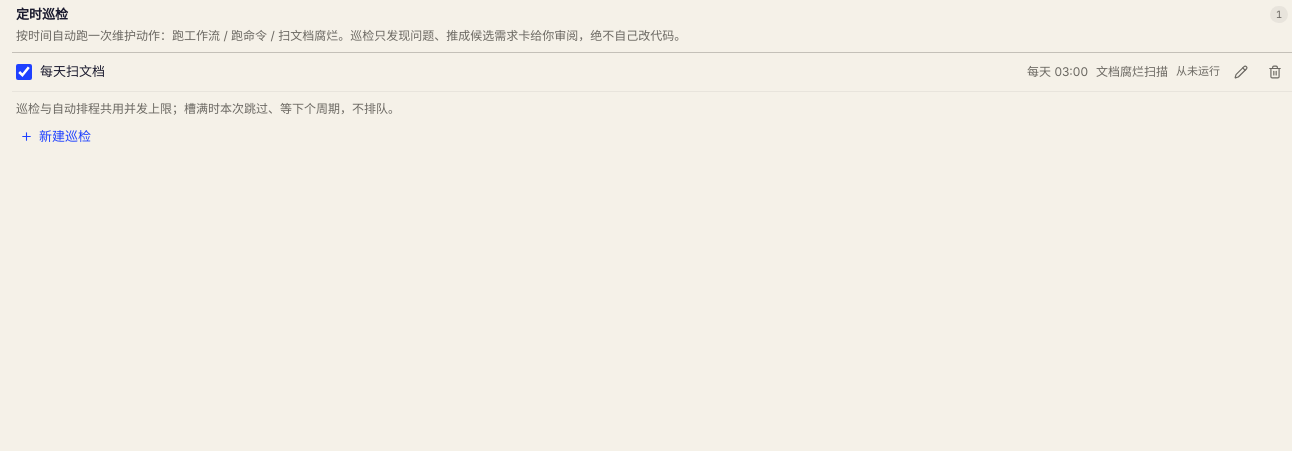
Test: PatrolSettings · 触发编辑（下拉 + 时刻选择器，绝不出现表达式输入框） › 动作三选一：工作流给工作流下拉、命令给命令输入、文档扫描无额外字段
Click the button named "编辑巡检 每天扫文档": (1241, 72) [1228, 58, 1254, 84]
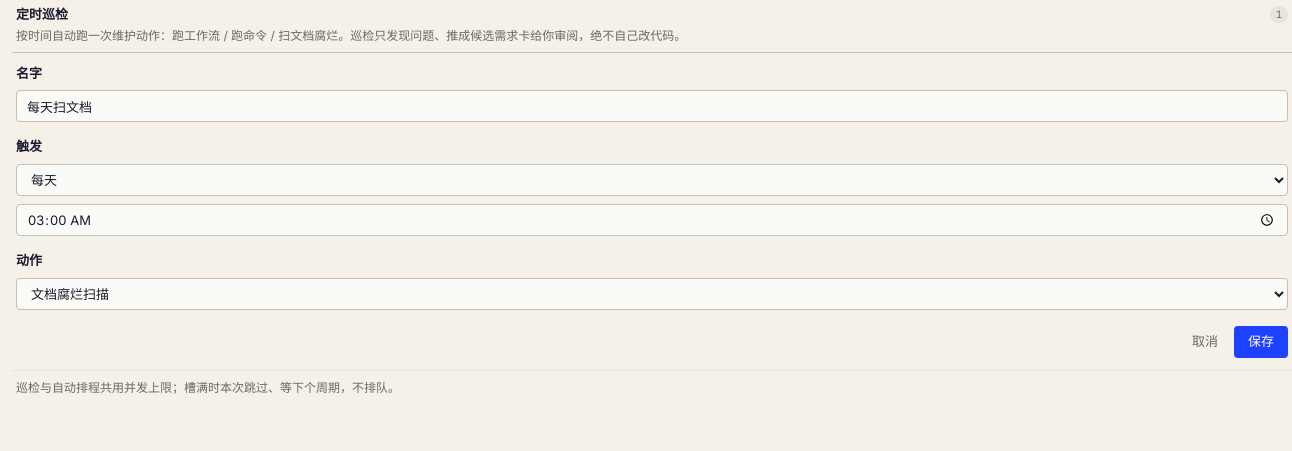
Select "跑工作流" in the dropdown labelled "动作": (652, 294) [16, 278, 1288, 310]
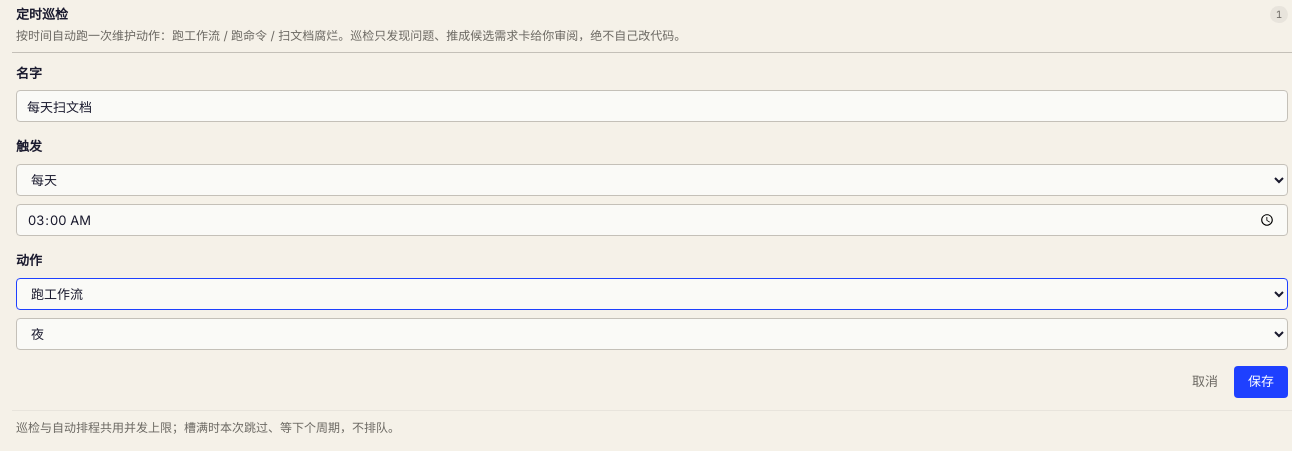
Result: the dropdown named "工作流" is shown at [16, 318, 1288, 350]
Select "跑命令" in the dropdown labelled "动作": (652, 294) [16, 278, 1288, 310]
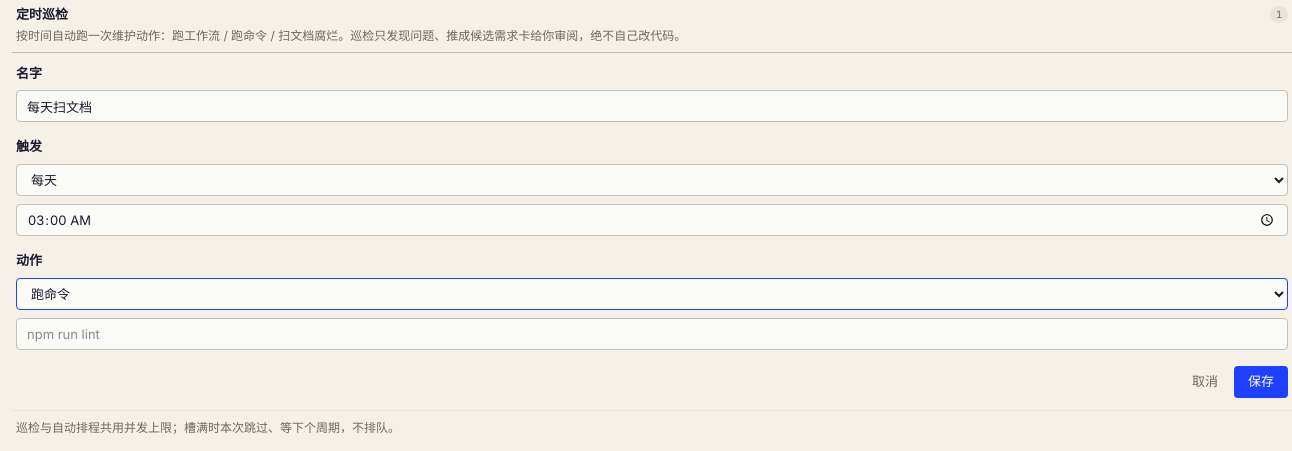
Result: the field named "命令" is shown at [16, 318, 1288, 350]
